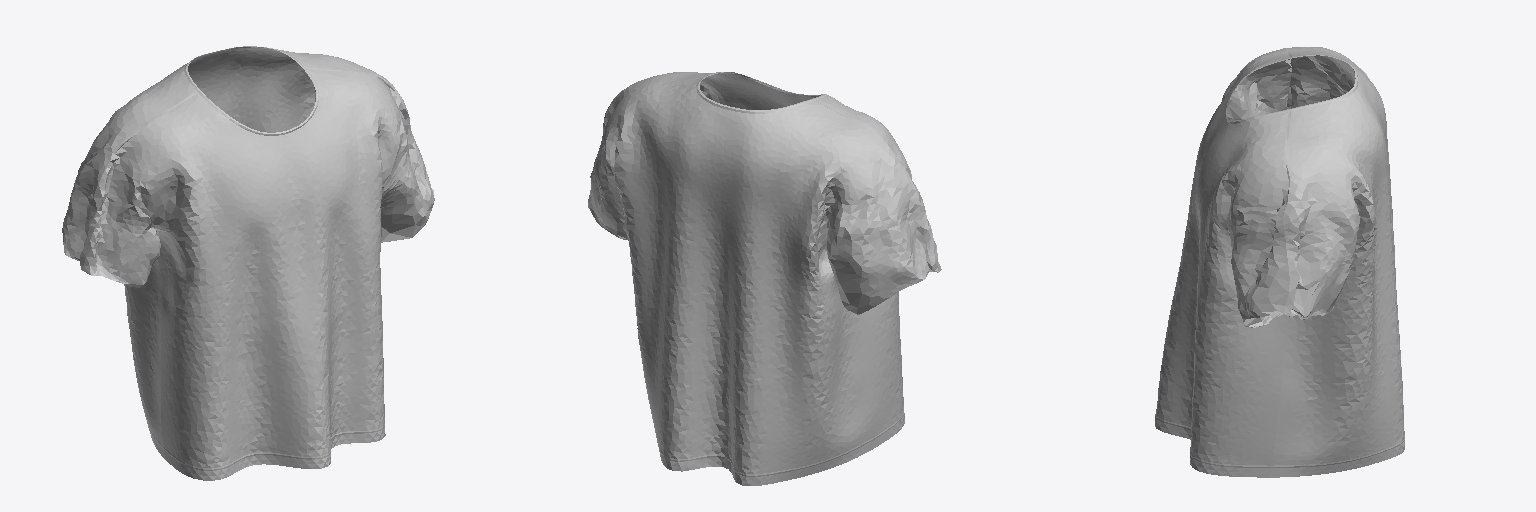
The model's file is XL_average.obj.
3 views of the same model, side by side, from view 1: azimuth 30°, elevation 25°; view 2: azimuth 150°, elevation 25°; view 3: azimuth 270°, elevation 25° (orthographic).
Parts seen in each view (by area): view 1: 短袖.003; view 2: 短袖.003; view 3: 短袖.003.
Boxes of the visible parts, x1,y1,x2,y2 form: 短袖.003: [62, 46, 434, 480]; 短袖.003: [588, 72, 941, 485]; 短袖.003: [1155, 47, 1404, 477].
Bounding box in the file's own units: 0.6979 × 0.6836 × 0.4362.